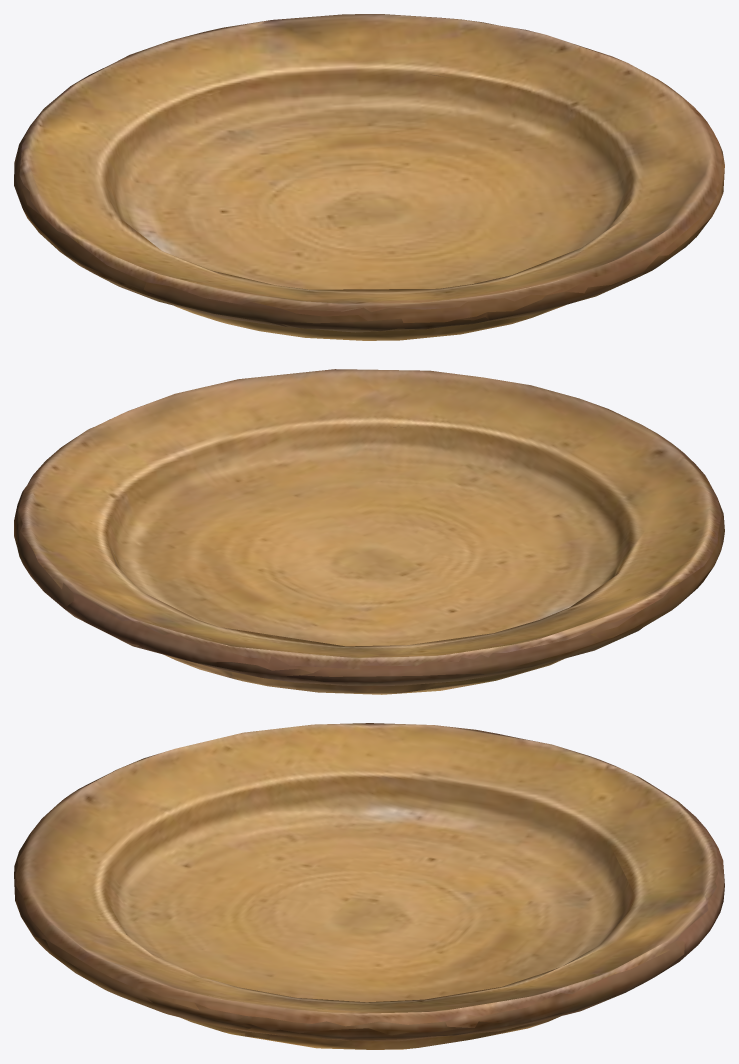
3 views of the same model, one above another, from view 1: azimuth 30°, elevation 25°; view 2: azimuth 150°, elevation 25°; view 3: azimuth 270°, elevation 25° (orthographic).
Visible parts, largest first — view 1: geometry_0; view 2: geometry_0; view 3: geometry_0.
Part boxes in pixels (x1=…): geometry_0: x1=14, y1=14, x2=724, y2=340; geometry_0: x1=14, y1=369, x2=724, y2=694; geometry_0: x1=14, y1=723, x2=724, y2=1049.
Size of the model in its own units: 0.2794 by 0.0384 by 0.2794.
Materials: 1 (1 with a texture image).
